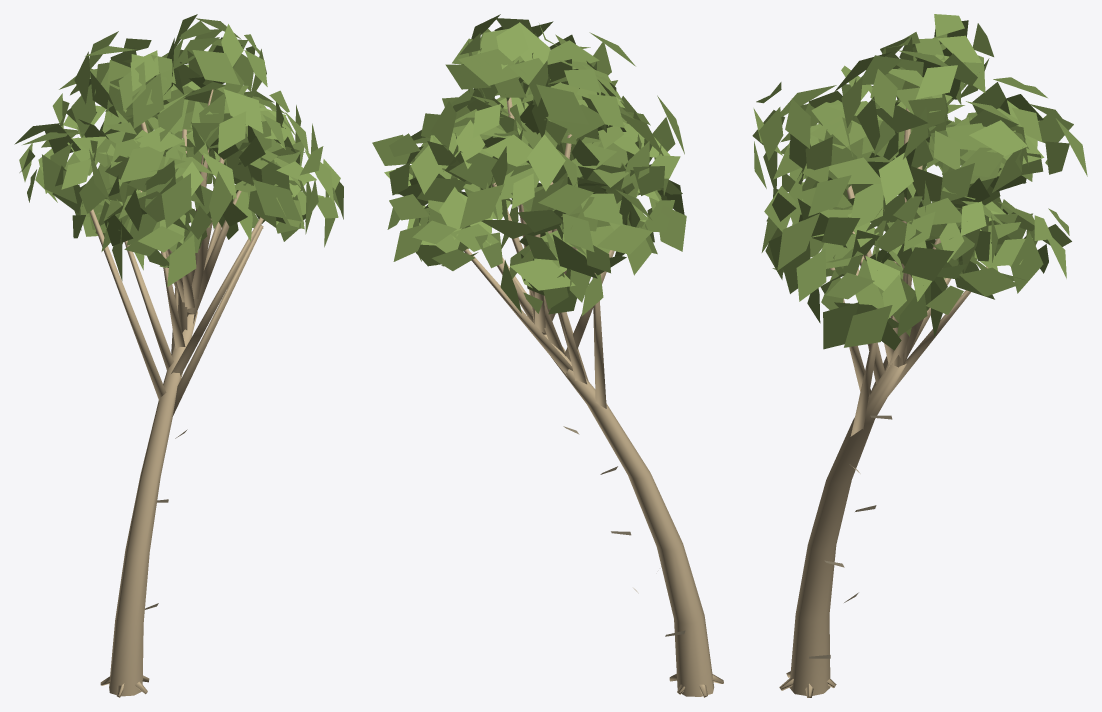
The model's file is birch-leaning-lod1.glb.
The picture shows the model from 3 angles, left to right: view 1: azimuth 30°, elevation 25°; view 2: azimuth 150°, elevation 25°; view 3: azimuth 270°, elevation 25°; orthographic projection. The views are drawn at different scales.
Visible parts, largest first — view 1: tree_birch-leaning_LOD1; view 2: tree_birch-leaning_LOD1; view 3: tree_birch-leaning_LOD1.
Part boxes in pixels (x1,y1,x2,y2): tree_birch-leaning_LOD1: (14, 14, 343, 697); tree_birch-leaning_LOD1: (372, 14, 723, 697); tree_birch-leaning_LOD1: (752, 14, 1087, 697).
Size of the model in its own units: 5.14 by 10.8 by 4.62.
